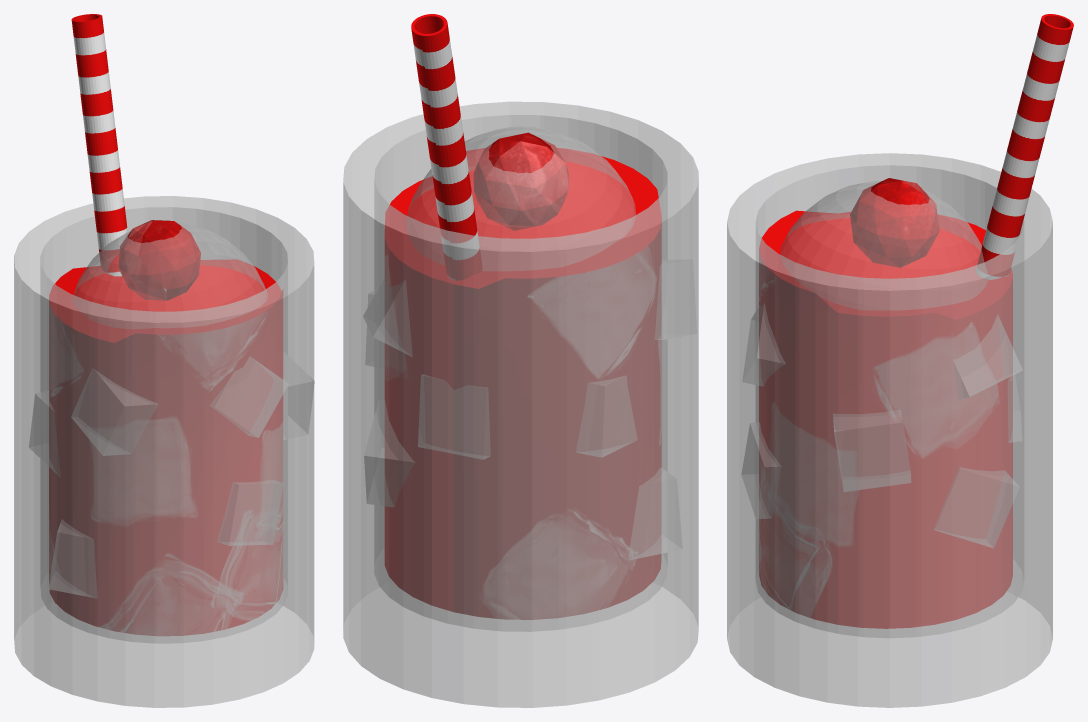
The model's file is bloodmoon-cup2.glb.
3 renders of one model, left to right at view 1: azimuth 30°, elevation 25°; view 2: azimuth 150°, elevation 25°; view 3: azimuth 270°, elevation 25°, orthographic. The views are drawn at different scales.
Visible parts, largest first — view 1: Cylinder, Cylinder.001, Sphere, Cylinder.002, Icosphere, Cube.006, Cube.007, Cube.008, Cube.005, Cube.001, Cube.004; view 2: Cylinder, Cylinder.001, Sphere, Cylinder.002, Icosphere, Cube.005, Cube.006, Cube.002, Cube.004, Cube.003, Cube; view 3: Cylinder, Cylinder.001, Sphere, Cylinder.002, Icosphere, Cube.001, Cube.002, Cube.007, Cube.003, Cube.008.
Part boxes in pixels (x1=…): Cylinder: x1=14, y1=196, x2=314, y2=707; Cylinder.001: x1=49, y1=259, x2=282, y2=635; Sphere: x1=73, y1=223, x2=266, y2=311; Cylinder.002: x1=71, y1=14, x2=127, y2=276; Icosphere: x1=118, y1=220, x2=200, y2=300; Cube.006: x1=71, y1=371, x2=153, y2=455; Cube.007: x1=218, y1=480, x2=283, y2=545; Cube.008: x1=211, y1=358, x2=288, y2=437; Cube.005: x1=48, y1=521, x2=95, y2=597; Cube.001: x1=284, y1=356, x2=314, y2=439; Cube.004: x1=29, y1=391, x2=59, y2=475; Cylinder: x1=343, y1=101, x2=698, y2=707; Cylinder.001: x1=385, y1=148, x2=661, y2=619; Sphere: x1=407, y1=126, x2=635, y2=238; Cylinder.002: x1=411, y1=14, x2=482, y2=280; Icosphere: x1=473, y1=132, x2=568, y2=230; Cube.005: x1=629, y1=468, x2=682, y2=559; Cube.006: x1=655, y1=259, x2=696, y2=339; Cube.002: x1=364, y1=400, x2=398, y2=506; Cube.004: x1=577, y1=382, x2=635, y2=457; Cube.003: x1=363, y1=280, x2=410, y2=355; Cube: x1=418, y1=375, x2=489, y2=459; Cylinder: x1=727, y1=153, x2=1052, y2=707; Cylinder.001: x1=759, y1=210, x2=1012, y2=628; Sphere: x1=780, y1=181, x2=984, y2=278; Cylinder.002: x1=976, y1=14, x2=1073, y2=279; Icosphere: x1=850, y1=178, x2=939, y2=267; Cube.001: x1=833, y1=413, x2=910, y2=491; Cube.002: x1=934, y1=471, x2=1019, y2=547; Cube.007: x1=741, y1=423, x2=777, y2=518; Cube.003: x1=960, y1=316, x2=1022, y2=399; Cube.008: x1=742, y1=306, x2=780, y2=385.
Bounding box in the file's own units: 0.1594 × 0.3348 × 0.1696.
Materials: 2 (1 with a texture image).
